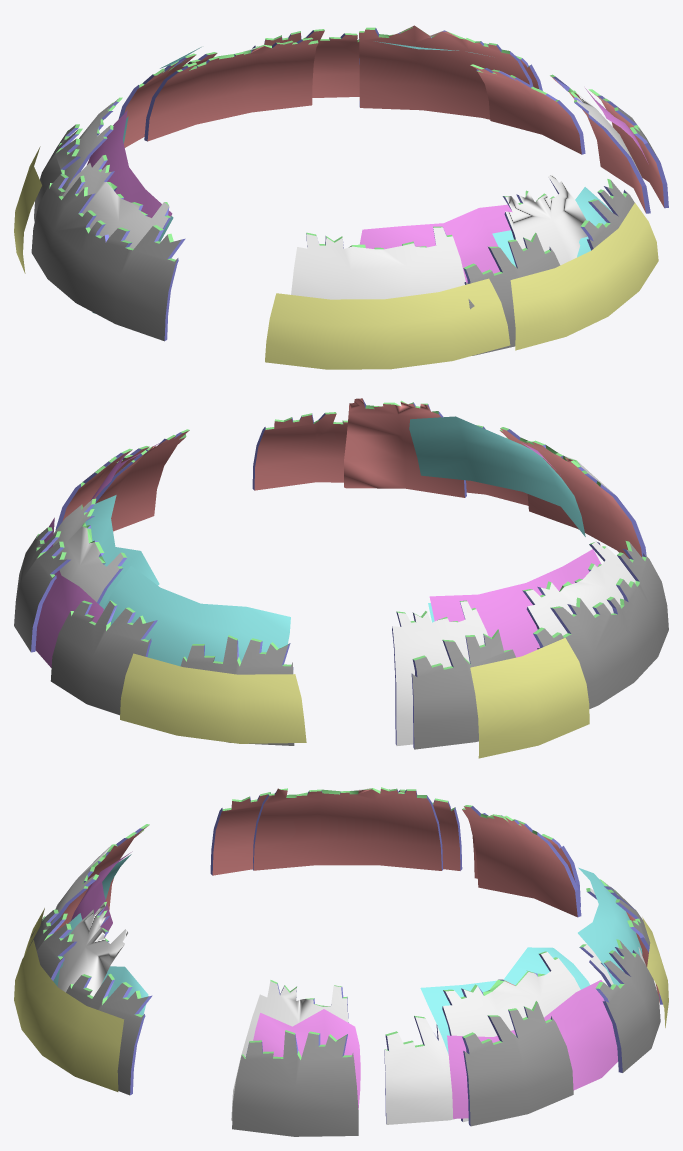
Rendered from PM_Plain_SetOBJ.gltf.
The picture shows the model from 3 angles, top to bottom: view 1: azimuth 30°, elevation 25°; view 2: azimuth 150°, elevation 25°; view 3: azimuth 270°, elevation 25°; orthographic projection. The views are drawn at different scales.
Parts seen in each view (by area): view 1: PM_Plain_SetOBJ; view 2: PM_Plain_SetOBJ; view 3: PM_Plain_SetOBJ.
Part boxes in pixels (<box>): PM_Plain_SetOBJ: <box>14,25,668,369</box>; PM_Plain_SetOBJ: <box>14,398,668,758</box>; PM_Plain_SetOBJ: <box>14,787,668,1136</box>.
Bounding box in the file's own units: 6.9 × 1.55 × 6.86.
